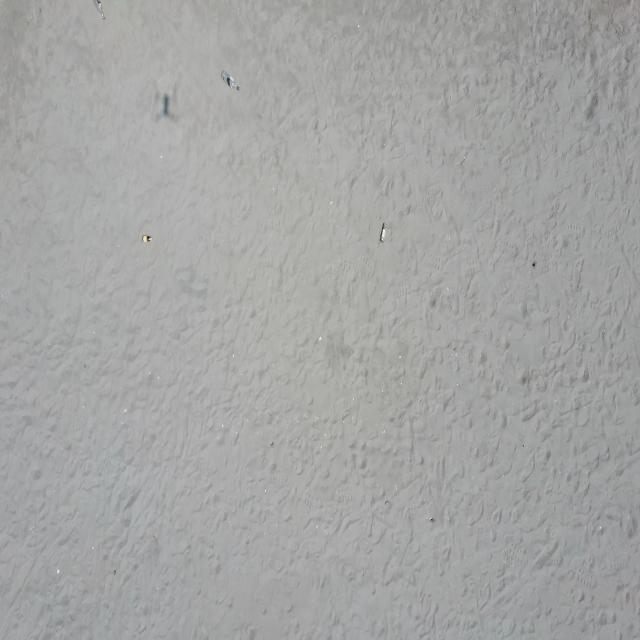glass: (221, 71, 239, 90), (92, 1, 108, 20), (380, 222, 387, 243), (142, 235, 153, 242)
